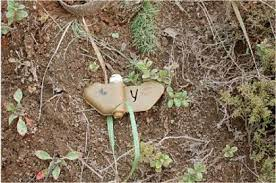butterfly: (81, 70, 169, 122)
